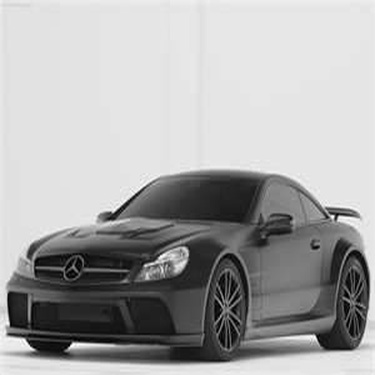car: (1, 168, 368, 354)
